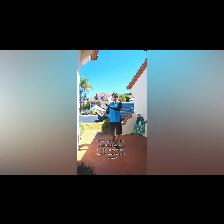person: (106, 93, 122, 149)
